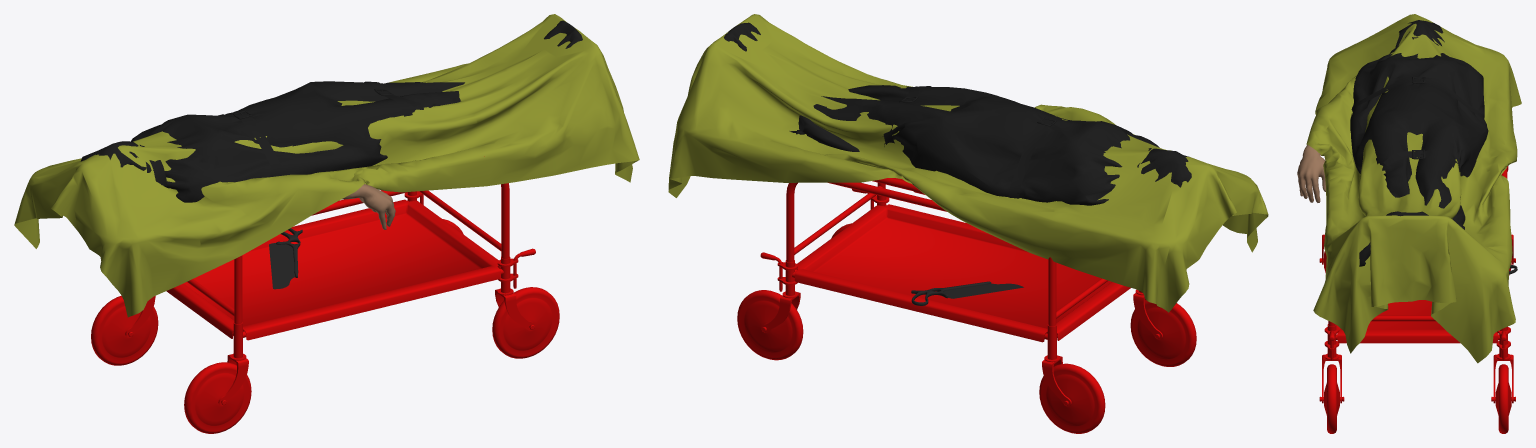
The model's file is Al model_set5.FBX.
3 renders of one model, left to right at view 1: azimuth 30°, elevation 25°; view 2: azimuth 150°, elevation 25°; view 3: azimuth 270°, elevation 25°, orthographic. The views are drawn at different scales.
Visible parts, largest first — view 1: Pokrivalo, All_reop_katalka, Upakovka, Pila, Arm; view 2: Pokrivalo, All_reop_katalka, Upakovka, Pila; view 3: Pokrivalo, Upakovka, All_reop_katalka, Arm.
Boxes of the visible parts, x1,y1,x2,y2 form: Pokrivalo: [14, 14, 639, 317]; All_reop_katalka: [91, 156, 559, 433]; Upakovka: [80, 20, 582, 202]; Pila: [269, 228, 302, 289]; Arm: [341, 184, 395, 229]; Pokrivalo: [668, 14, 1268, 312]; All_reop_katalka: [737, 178, 1196, 433]; Upakovka: [724, 22, 1191, 205]; Pila: [911, 281, 1023, 305]; Pokrivalo: [1306, 14, 1521, 363]; Upakovka: [1350, 20, 1488, 266]; All_reop_katalka: [1319, 166, 1515, 433]; Arm: [1297, 144, 1325, 202].
Bounding box in the file's own units: 2042 × 993 × 785.
